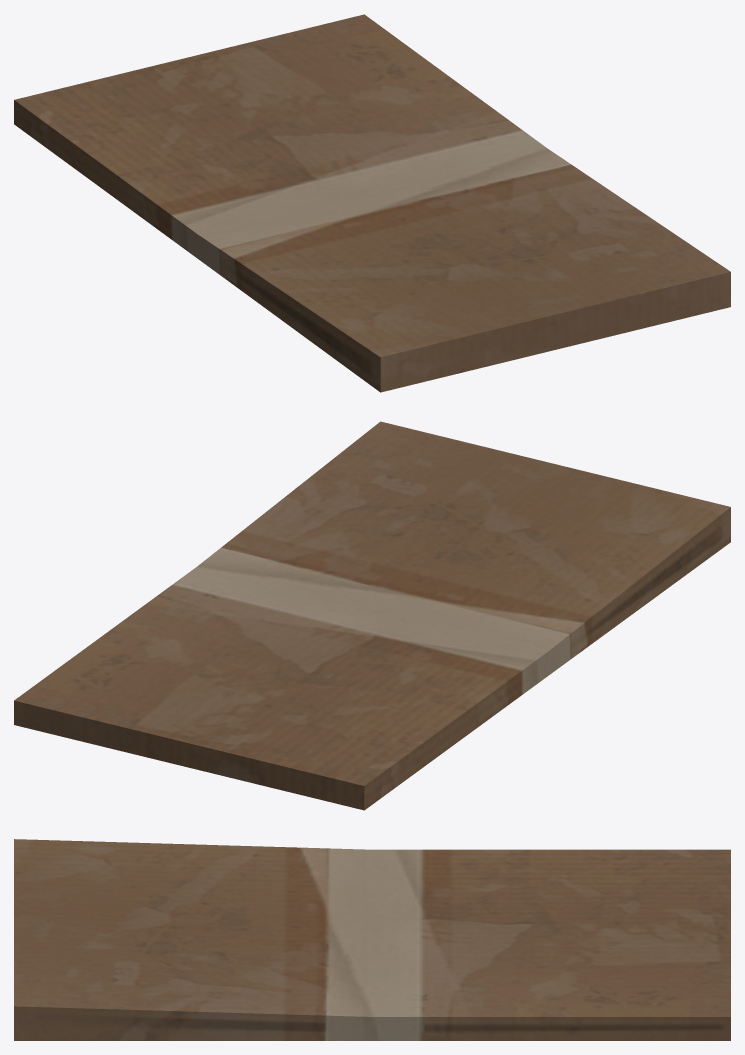
Rendered from Flatterned_Cardboard_Box_1.FBX.
3 views of the same model, one above another, from view 1: azimuth 30°, elevation 25°; view 2: azimuth 150°, elevation 25°; view 3: azimuth 270°, elevation 25° (orthographic). The views are drawn at different scales.
Parts seen in each view (by area): view 1: Folded_Cardboard_1; view 2: Folded_Cardboard_1; view 3: Folded_Cardboard_1.
Part boxes in pixels (x1,y1,x2,y2): Folded_Cardboard_1: (14, 14, 730, 392); Folded_Cardboard_1: (14, 421, 730, 810); Folded_Cardboard_1: (14, 839, 730, 1040).
Bounding box in the file's own units: 998 × 95.86 × 1807.
1 material, 1 textured.
